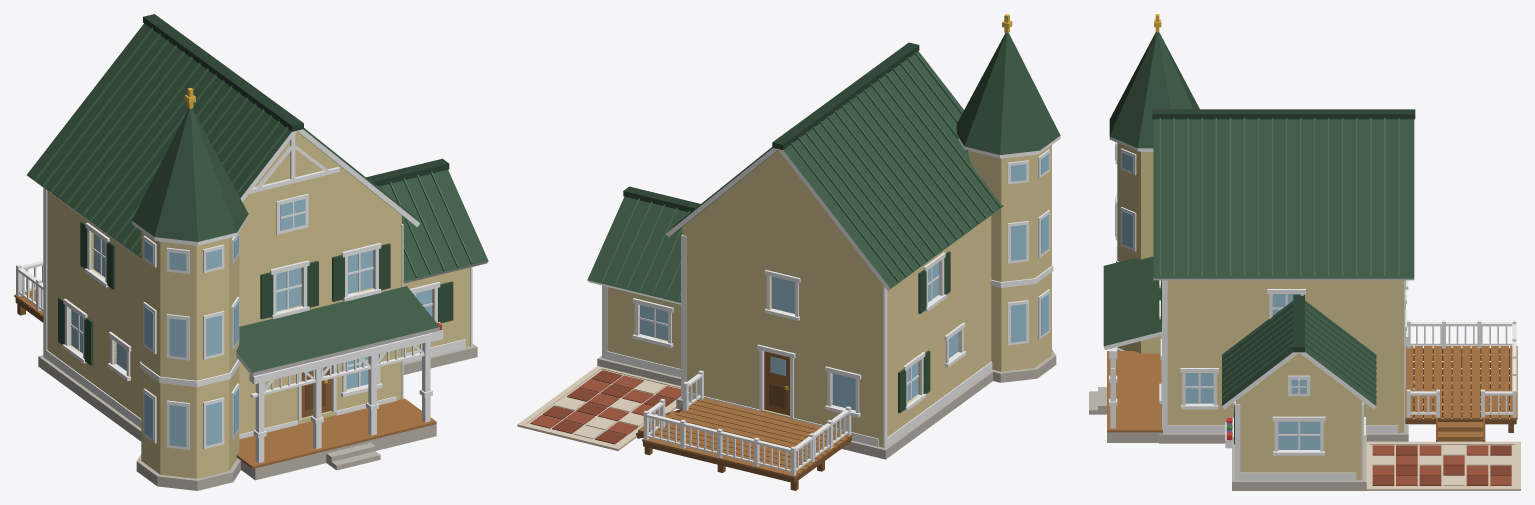
File: base-10-level4.glb
The picture shows the model from 3 angles, left to right: view 1: azimuth 30°, elevation 25°; view 2: azimuth 150°, elevation 25°; view 3: azimuth 270°, elevation 25°; orthographic projection. The views are drawn at different scales.
Parts seen in each view (by area): view 1: base_house_10_finished, piece_addition, piece_deck; view 2: base_house_10_finished, piece_addition, piece_deck, piece_patio; view 3: base_house_10_finished, piece_addition, piece_deck, piece_patio.
Boxes of the visible parts, x1=… form: base_house_10_finished: x1=27, y1=14, x2=439, y2=490; piece_addition: x1=366, y1=158, x2=488, y2=374; piece_deck: x1=14, y1=260, x2=43, y2=322; base_house_10_finished: x1=666, y1=14, x2=1060, y2=459; piece_addition: x1=587, y1=186, x2=700, y2=385; piece_deck: x1=636, y1=370, x2=852, y2=490; piece_patio: x1=517, y1=366, x2=680, y2=450; base_house_10_finished: x1=1089, y1=14, x2=1415, y2=443; piece_addition: x1=1221, y1=294, x2=1376, y2=490; piece_deck: x1=1405, y1=320, x2=1517, y2=441; piece_patio: x1=1366, y1=441, x2=1520, y2=490.
Size of the model in its own units: 13.9 by 13.19 by 15.39.
